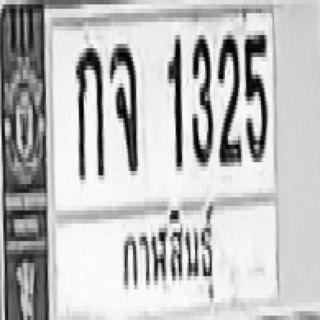A01: (74, 49, 104, 180)
A08: (109, 44, 137, 175)
N01: (166, 31, 183, 174)
N02: (217, 31, 241, 165)
N03: (190, 31, 213, 166)
N05: (243, 31, 268, 164)
P15: (116, 201, 219, 307)
